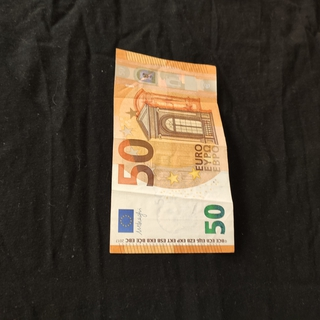50EUROFront: (108, 46, 236, 254)
